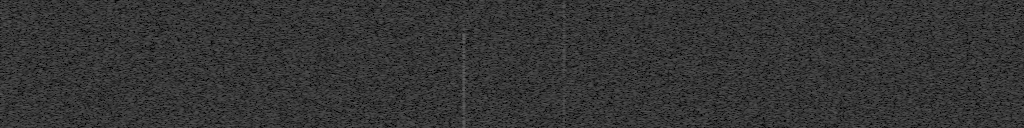wv_lsb: (461, 33, 467, 128), (462, 14, 466, 32), (462, 1, 466, 13)
wv_usb: (562, 1, 567, 81), (562, 87, 566, 128), (786, 36, 790, 58), (785, 118, 790, 126), (786, 17, 789, 29), (786, 1, 790, 8), (786, 9, 790, 14), (786, 73, 789, 78), (786, 59, 789, 64), (786, 30, 789, 34), (786, 67, 790, 70), (786, 80, 789, 83)
